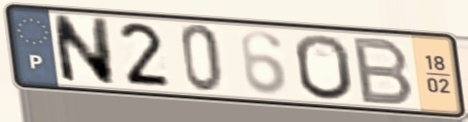0: (178, 22, 228, 96)
2: (116, 21, 174, 91)
6: (237, 28, 292, 99)
B: (352, 34, 418, 107)
N: (48, 12, 118, 88)
O: (291, 32, 356, 103)
